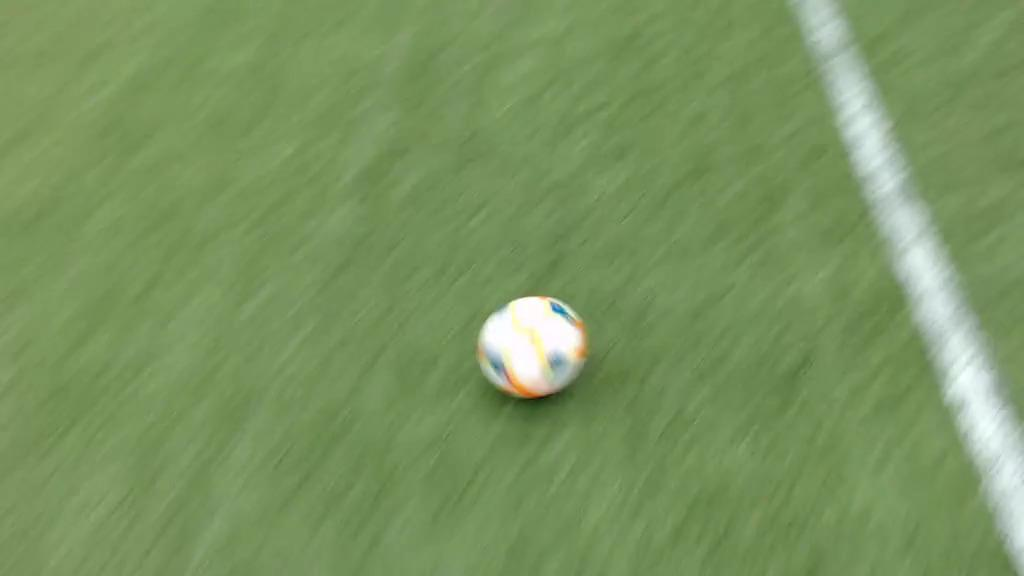ball: (478, 295, 584, 398)
